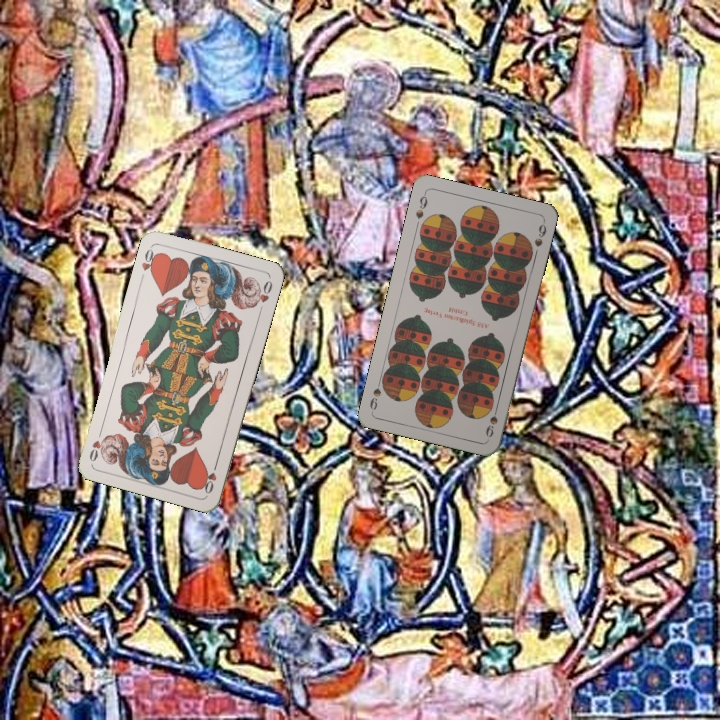HO: (137, 243, 161, 278), (200, 457, 221, 496)
S9: (481, 401, 501, 440), (411, 189, 430, 222)
